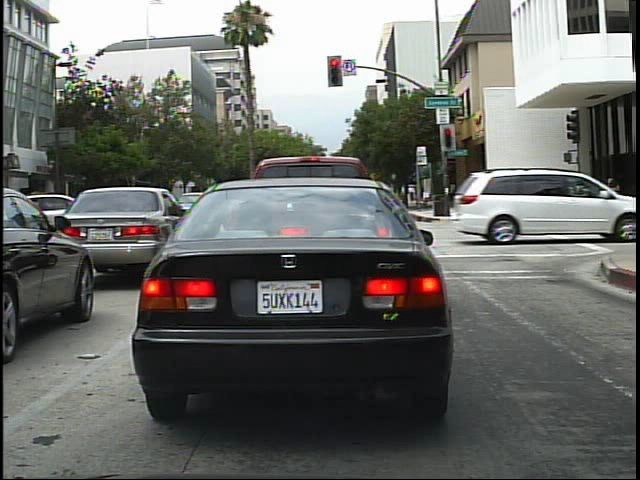person: (559, 171, 583, 222), (536, 171, 559, 221)
